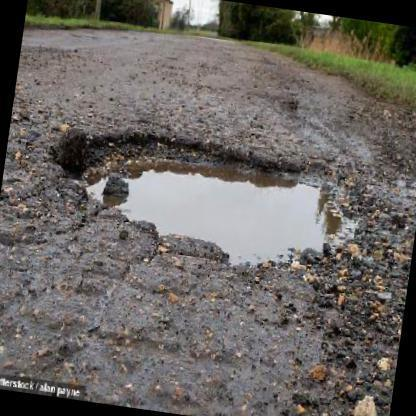pothole: (52, 123, 374, 277)
